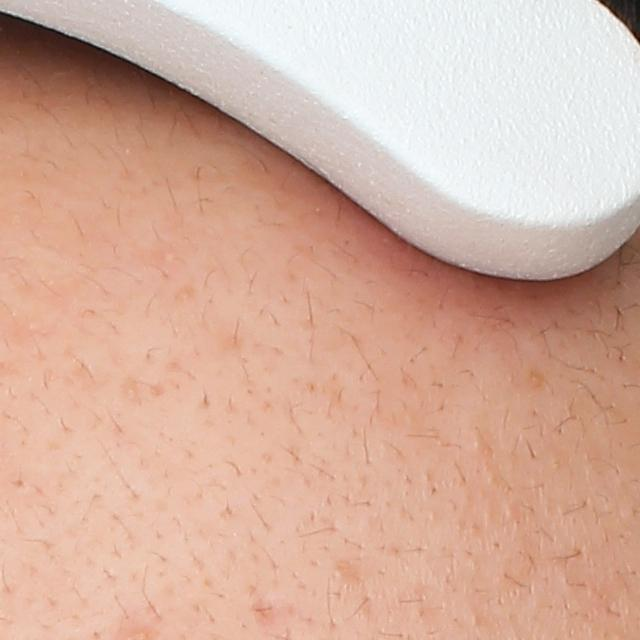comedo: (469, 434, 488, 454)
